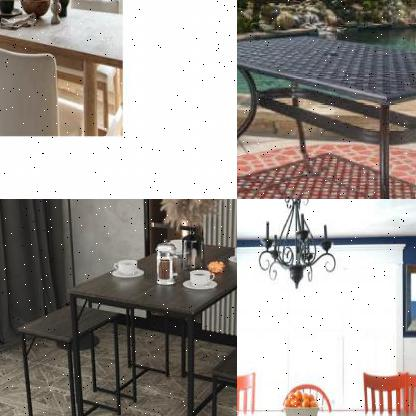table: (60, 233, 236, 415), (237, 28, 415, 198), (0, 0, 124, 139)
